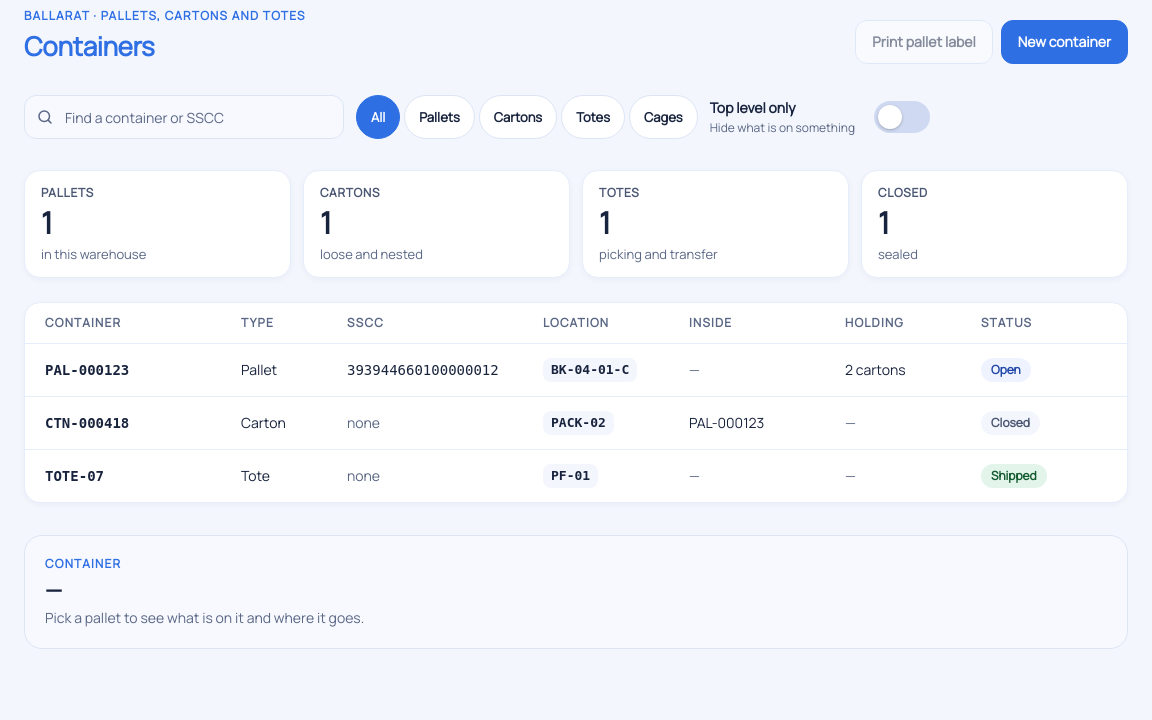
Scenario: Containers › filters the table with the type chips
Click the button "Cartons": point(518, 117) [479,95,557,139]
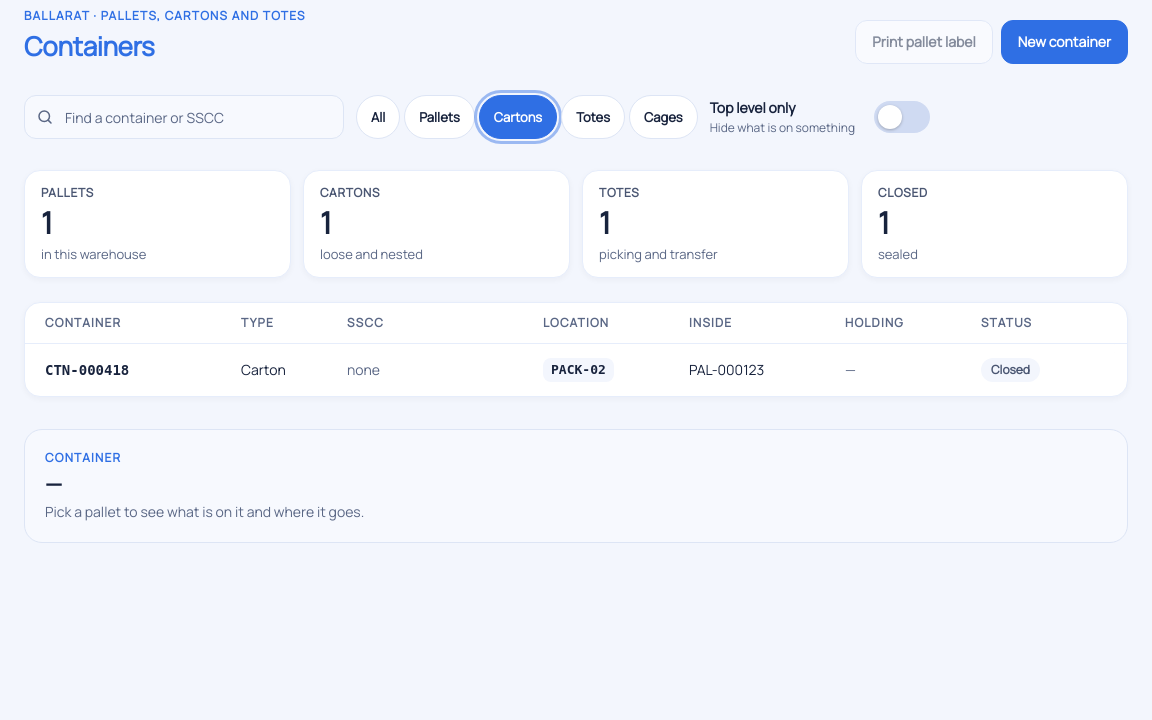
Expected: the button "393944660100000012" is gone
Expected: the text "PAL-000123" is shown once, [689,360,764,379]
Expected: the button "TOTE-07" is gone
Click the button "All": point(378, 117) [356,95,400,139]
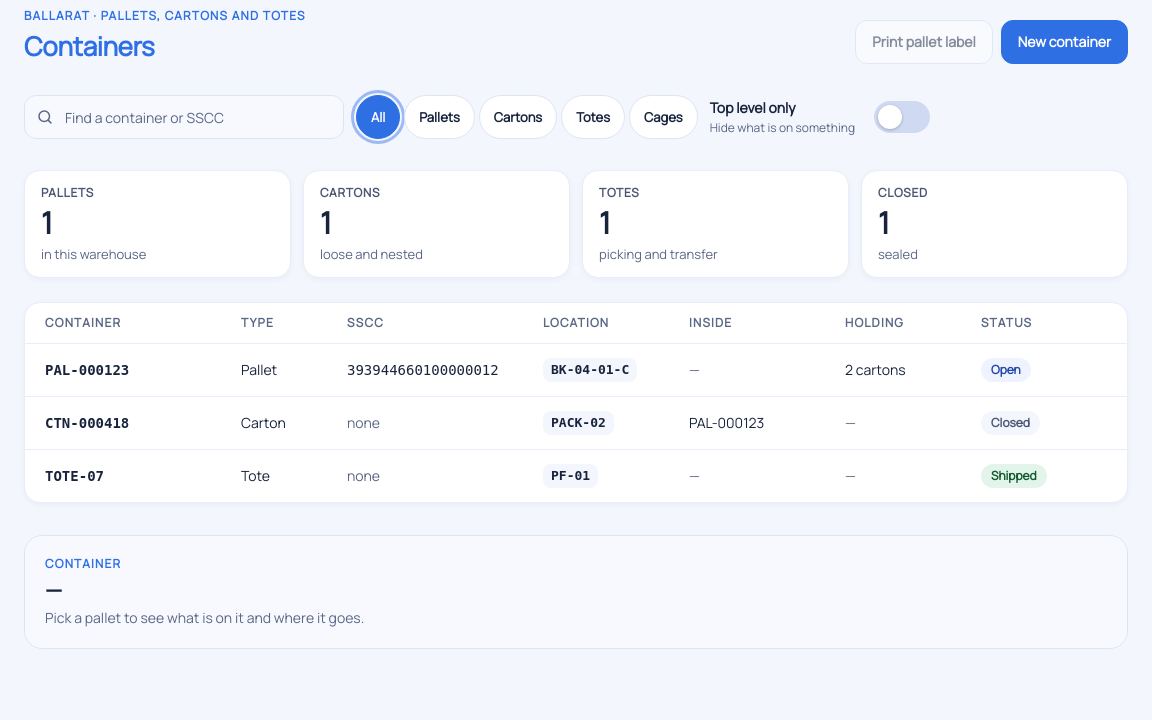
Expected: the text "393944660100000012" is shown, [347,362,499,378]
